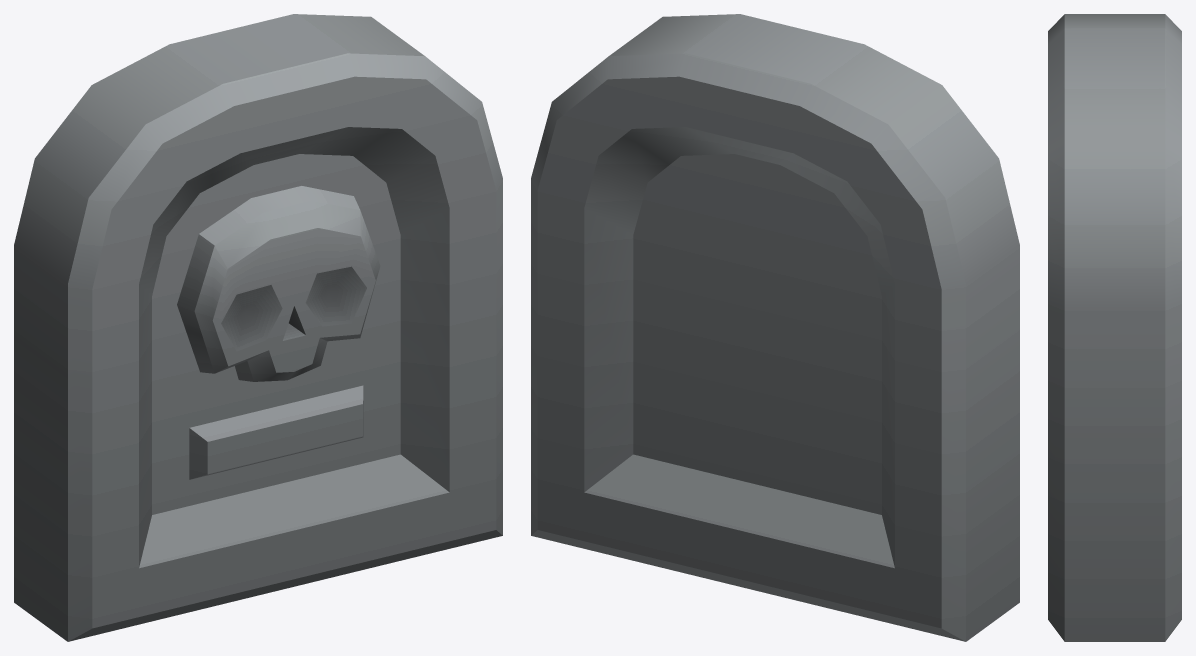
Rendered from decor-gravestone.glb.
3 renders of one model, left to right at view 1: azimuth 30°, elevation 25°; view 2: azimuth 150°, elevation 25°; view 3: azimuth 270°, elevation 25°, orthographic. The views are drawn at different scales.
Visible parts, largest first — view 1: gravestone; view 2: gravestone; view 3: gravestone.
Boxes of the visible parts, x1,y1,x2,y2 form: gravestone: (14,14,502,641); gravestone: (531,14,1019,641); gravestone: (1048,14,1181,641).
Bounding box in the file's own units: 1.4 × 1.6 × 0.4.
Materials: 1 (1 with a texture image).
